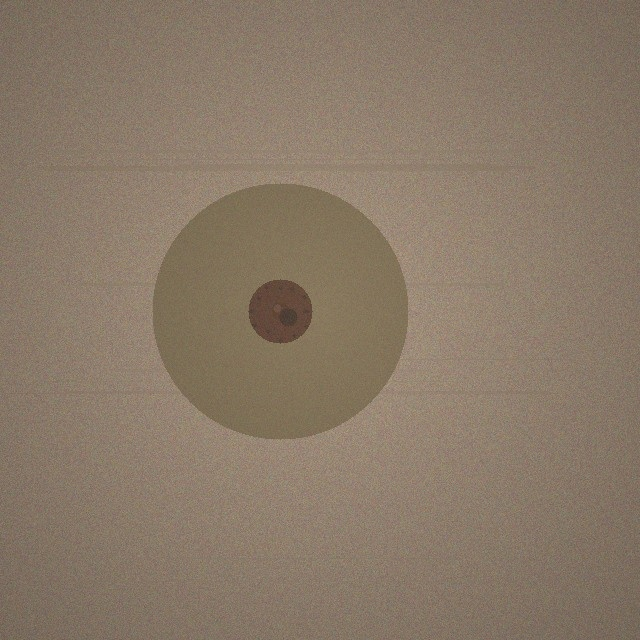cold_weld: (152, 183, 408, 439)
